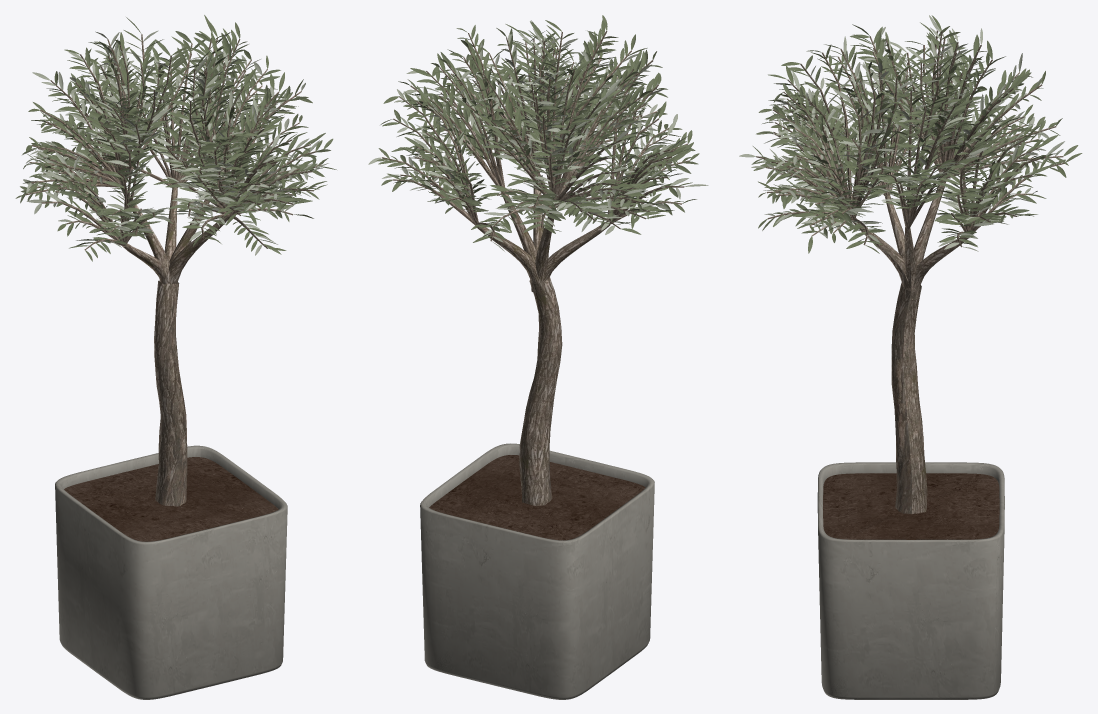
Rendered from olivo_170.glb.
3 renders of one model, left to right at view 1: azimuth 30°, elevation 25°; view 2: azimuth 150°, elevation 25°; view 3: azimuth 270°, elevation 25°, orthographic.
Visible parts, largest first — view 1: olivo_170; view 2: olivo_170; view 3: olivo_170.
Part boxes in pixels (x1,y1,x2,y2): olivo_170: [15, 15, 336, 699]; olivo_170: [368, 15, 708, 699]; olivo_170: [739, 15, 1082, 699].
Bounding box in the file's own units: 0.8501 × 1.7 × 0.8501.
4 materials, 4 textured.
